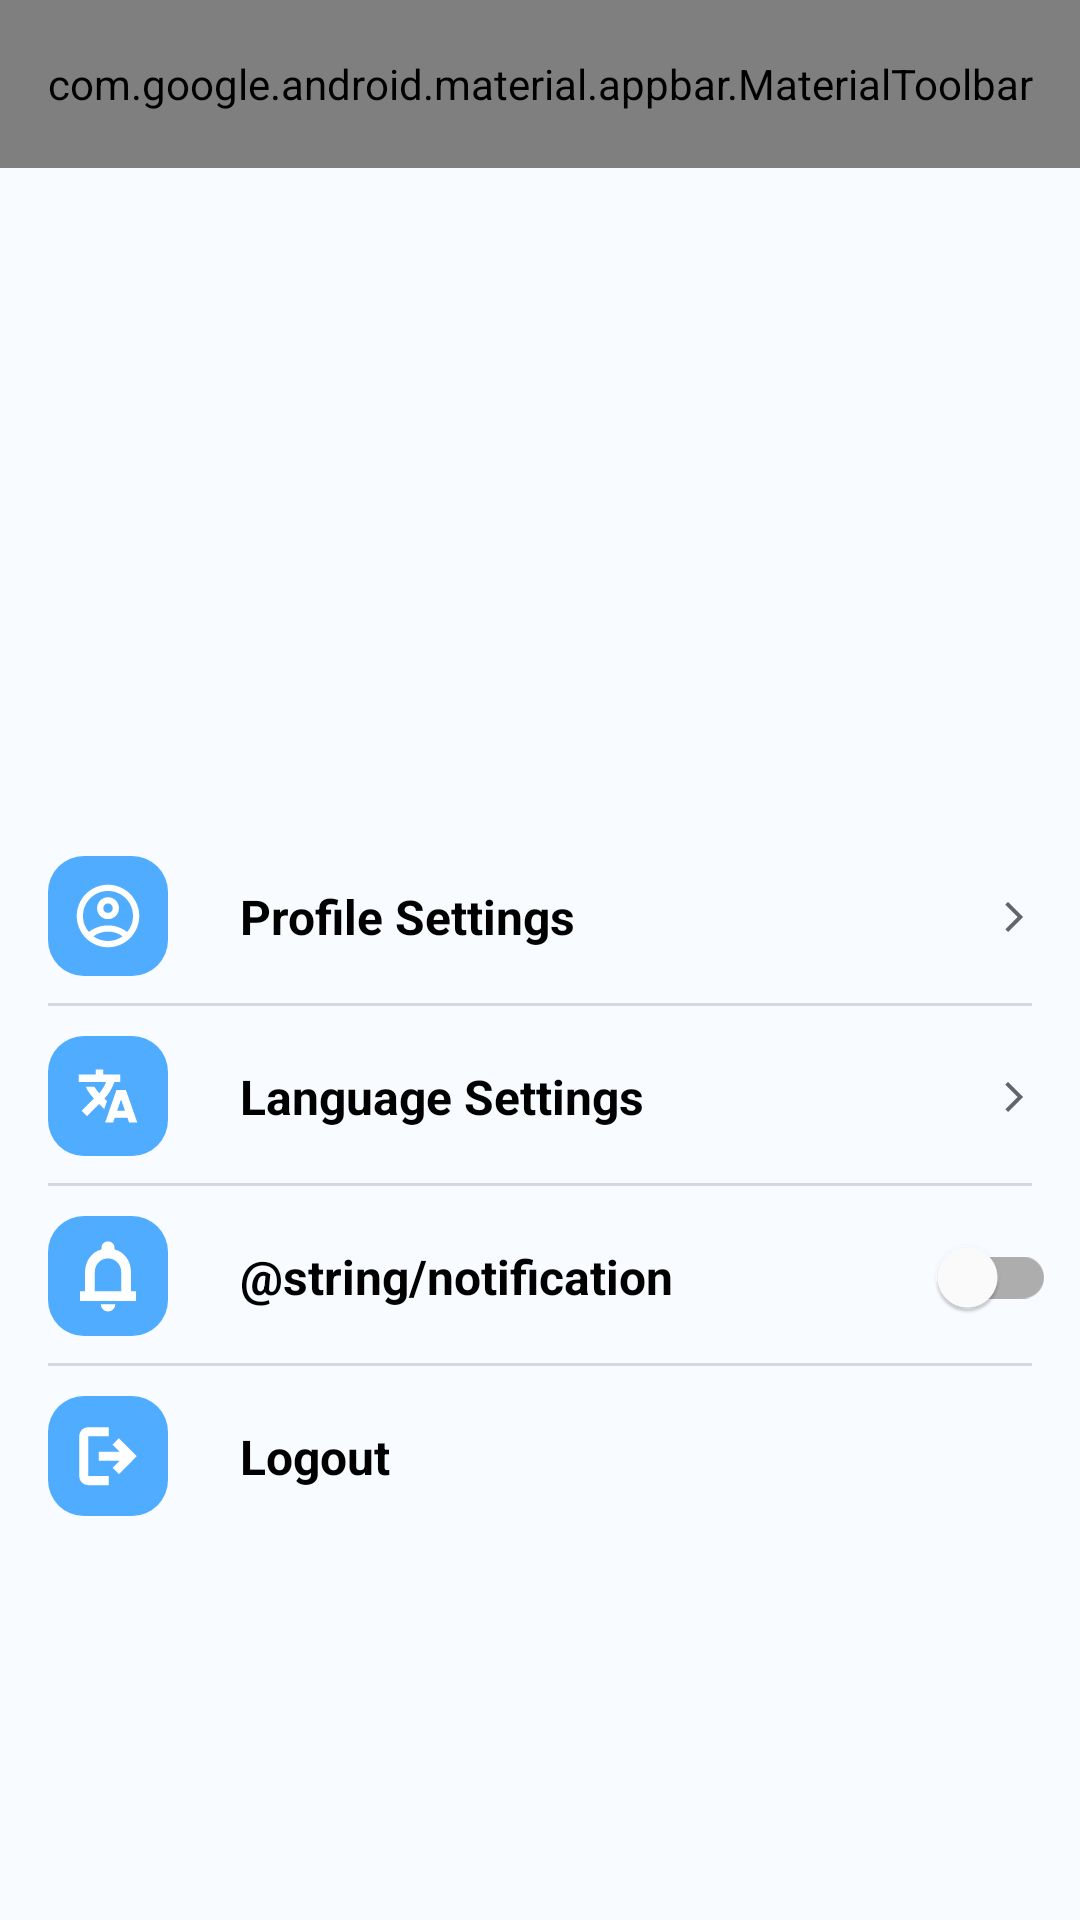

Icon click points for this 1080w x 1920h phone screenshot, format (x,y):
Notification Settings Icon: (108,1276)
